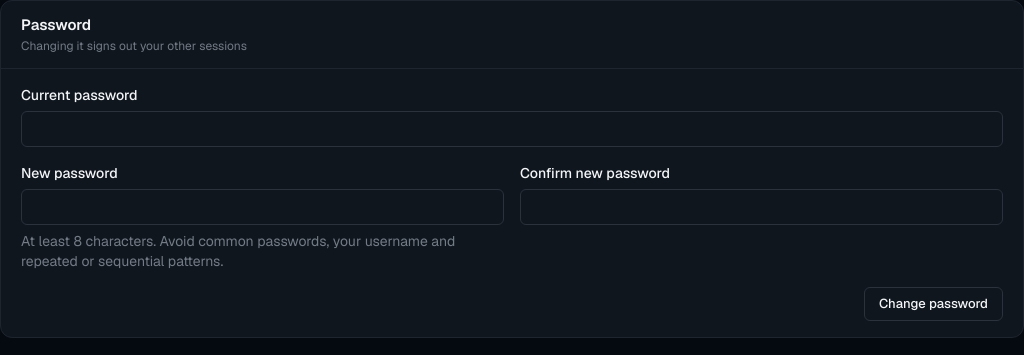
ChangePasswordPanel › rejects reusing the current password
Type "same-secret-1" into the password field labelled "Current password". click: point(512, 129)
box: [21, 111, 1003, 147]
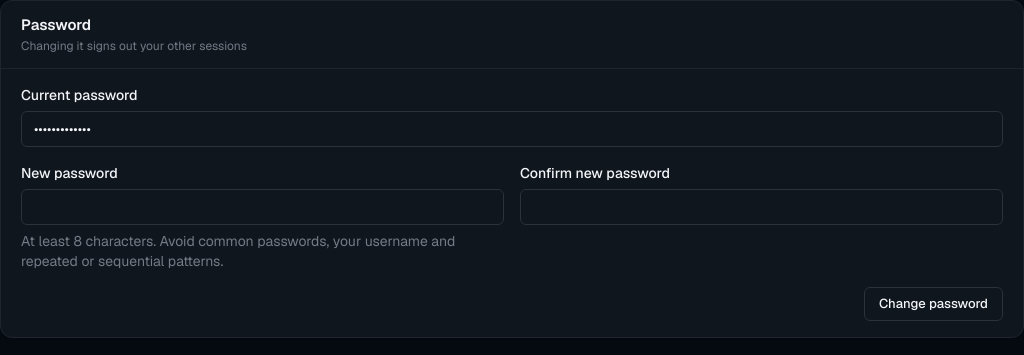
Type "same-secret-1" into the password field labelled "New password". click: point(262, 207)
box: [21, 189, 504, 225]
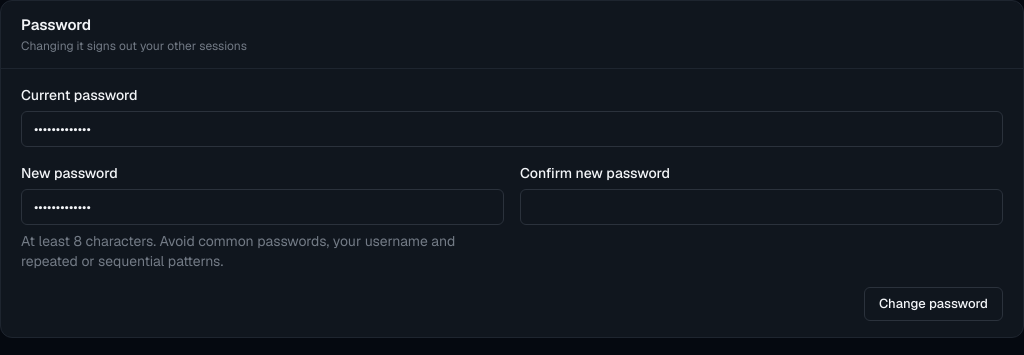
Type "same-secret-1" into the password field labelled "Confirm new password". click: point(762, 207)
box: [520, 189, 1003, 225]
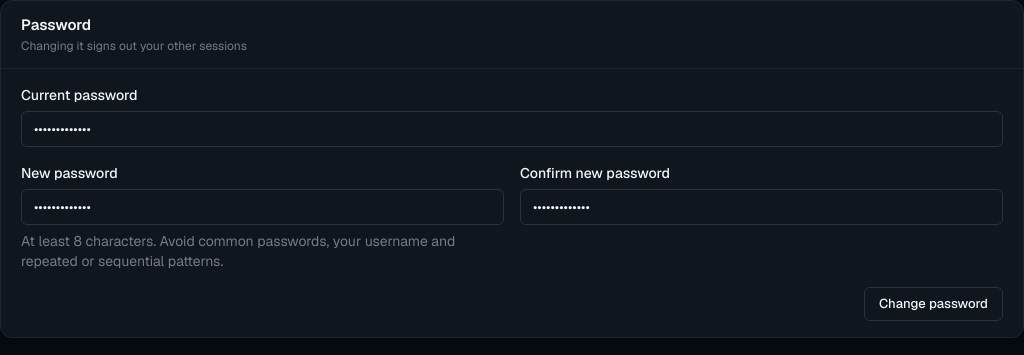
Click the button "Change password". click: point(933, 304)
box: [864, 287, 1003, 321]
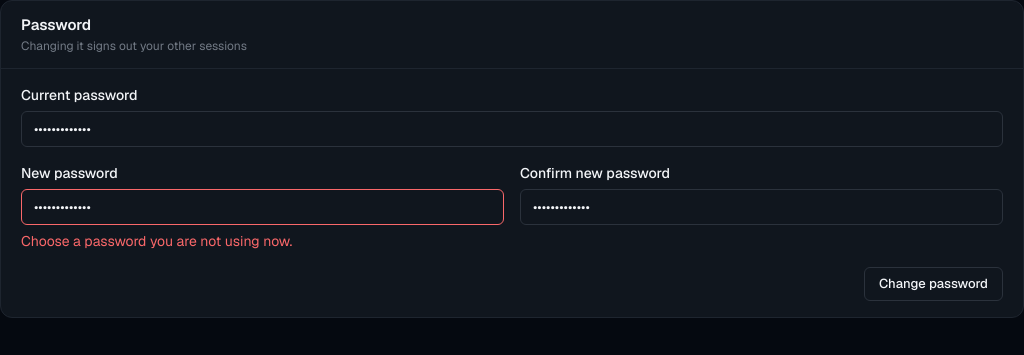
expect the text "Choose a password you are not using now." is shown: met, box [21, 231, 292, 251]
